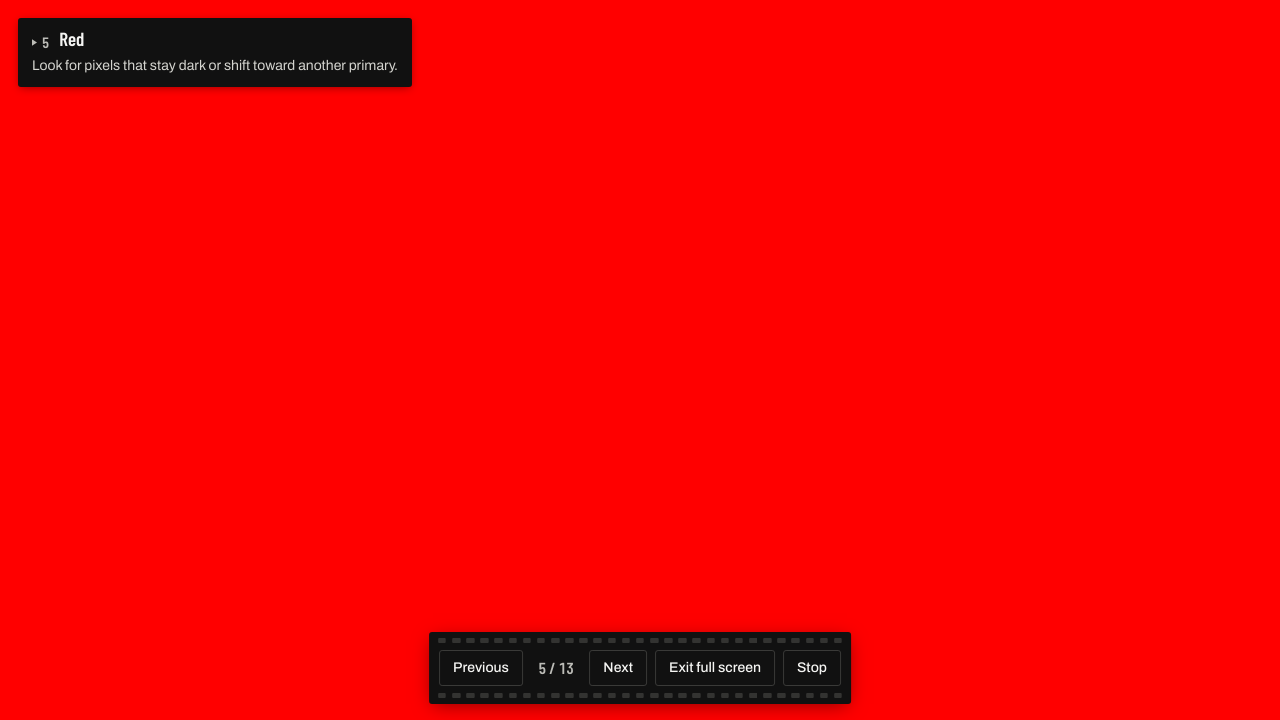
Test: flashing plate › can be skipped from the dock during the test
Earlier steps of the test are not shown.
Press ArrowRight
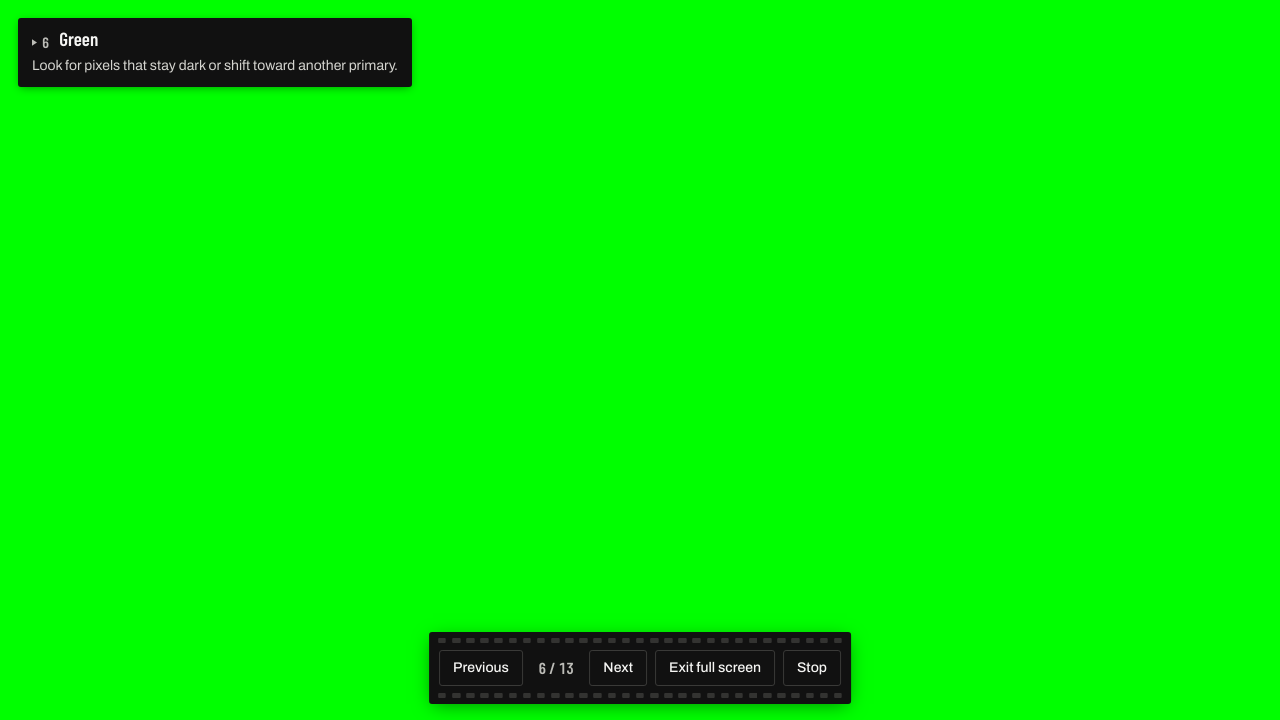
Press ArrowRight
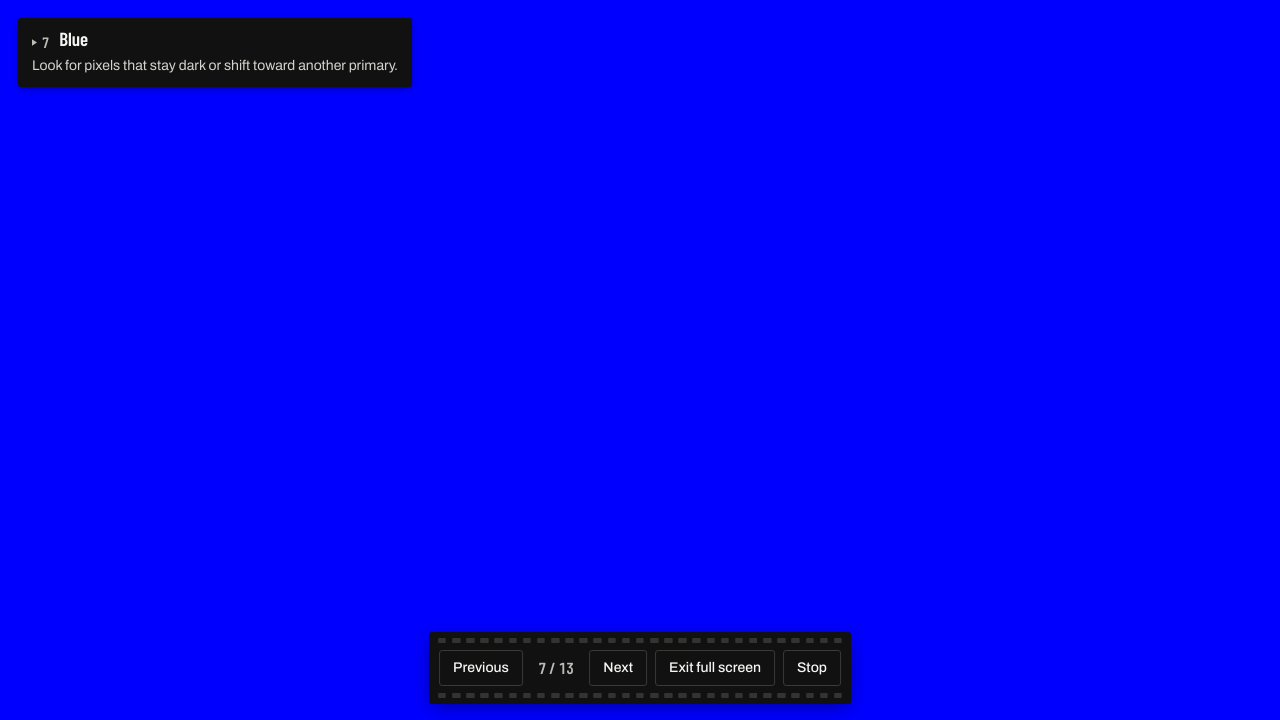
Press ArrowRight
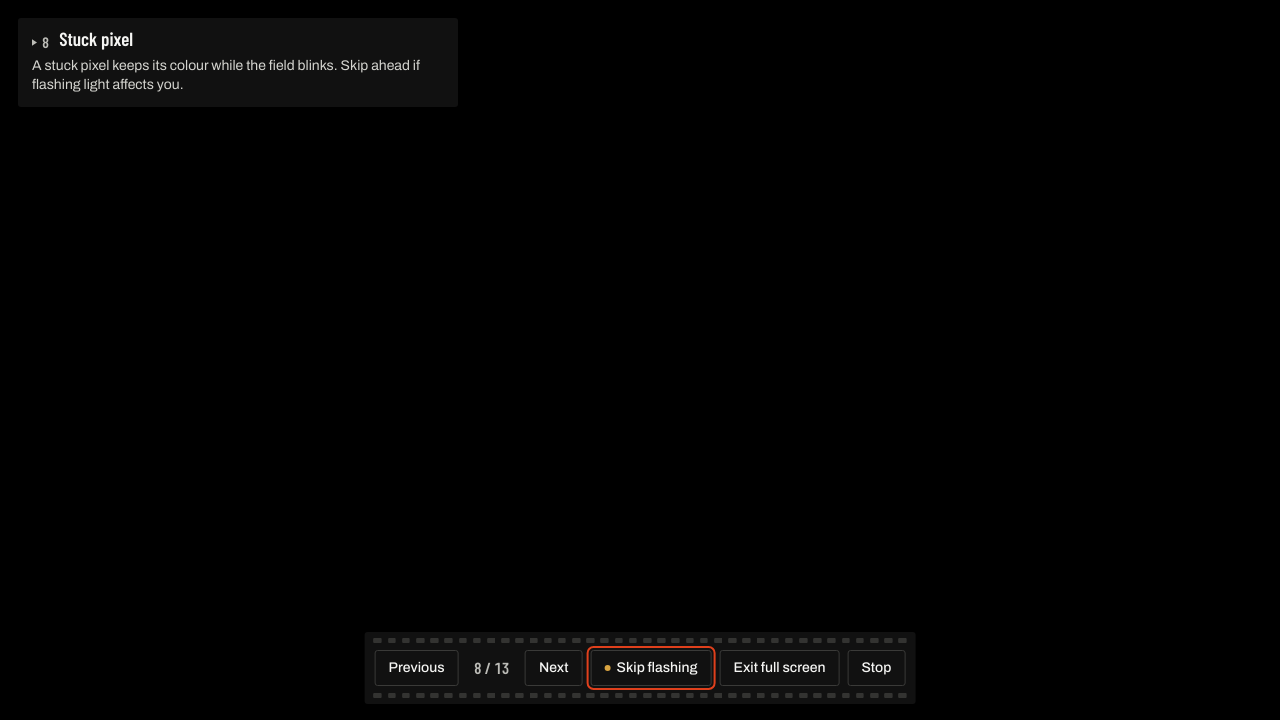
Click the button "Skip flashing" at [651, 668], box [590, 650, 712, 686]
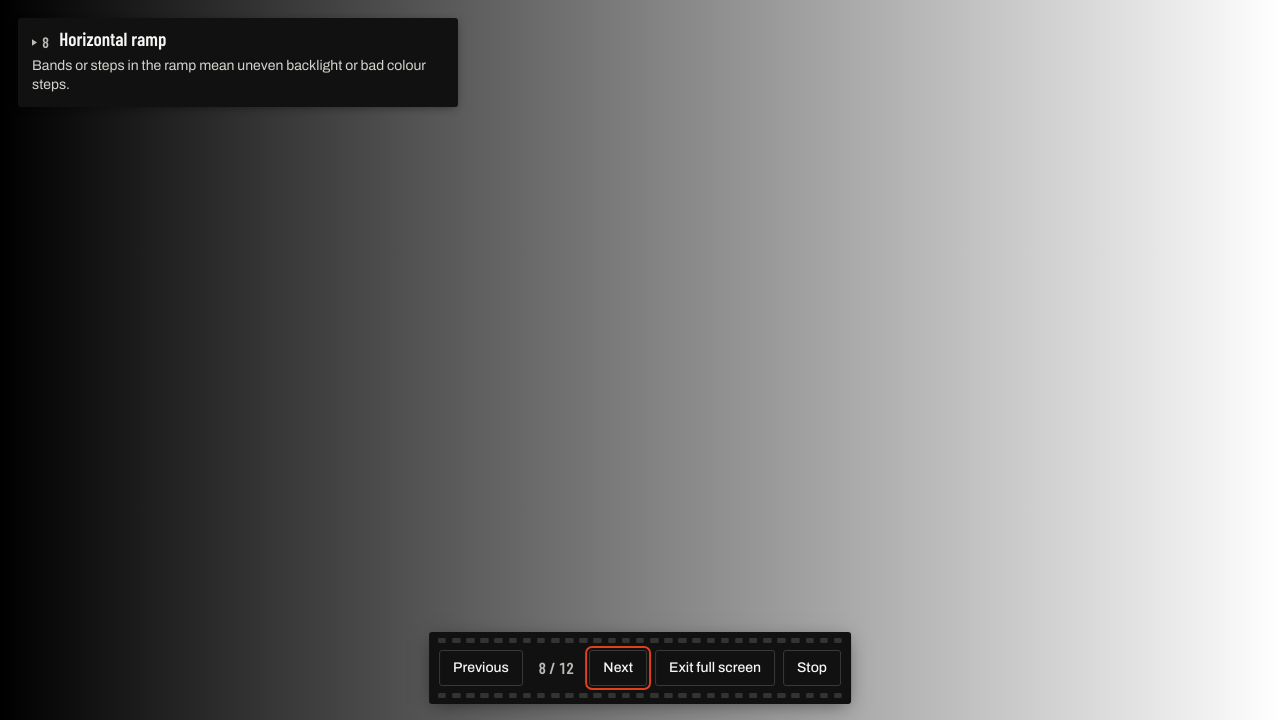
Expected: the button "Skip flashing" is gone
Click the button "Stop" at [812, 668], box [783, 650, 841, 686]
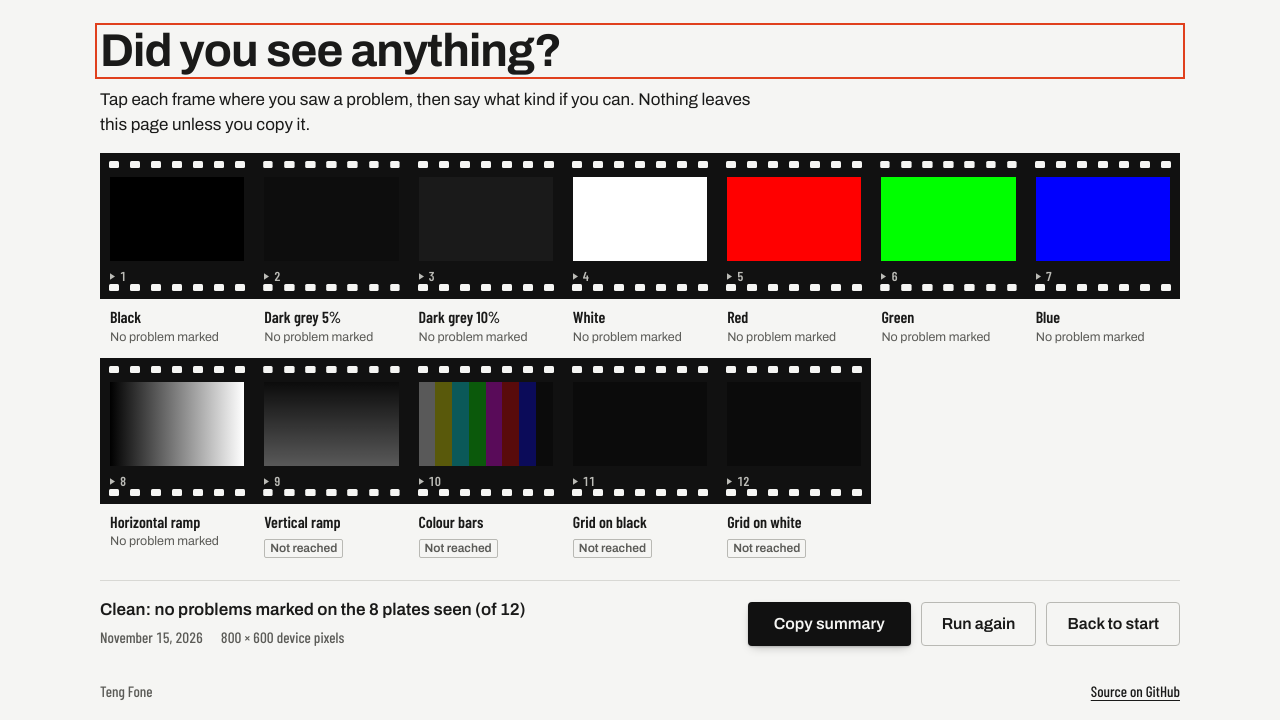
Click the button "Back to start" at [1113, 624], box [1046, 602, 1180, 646]
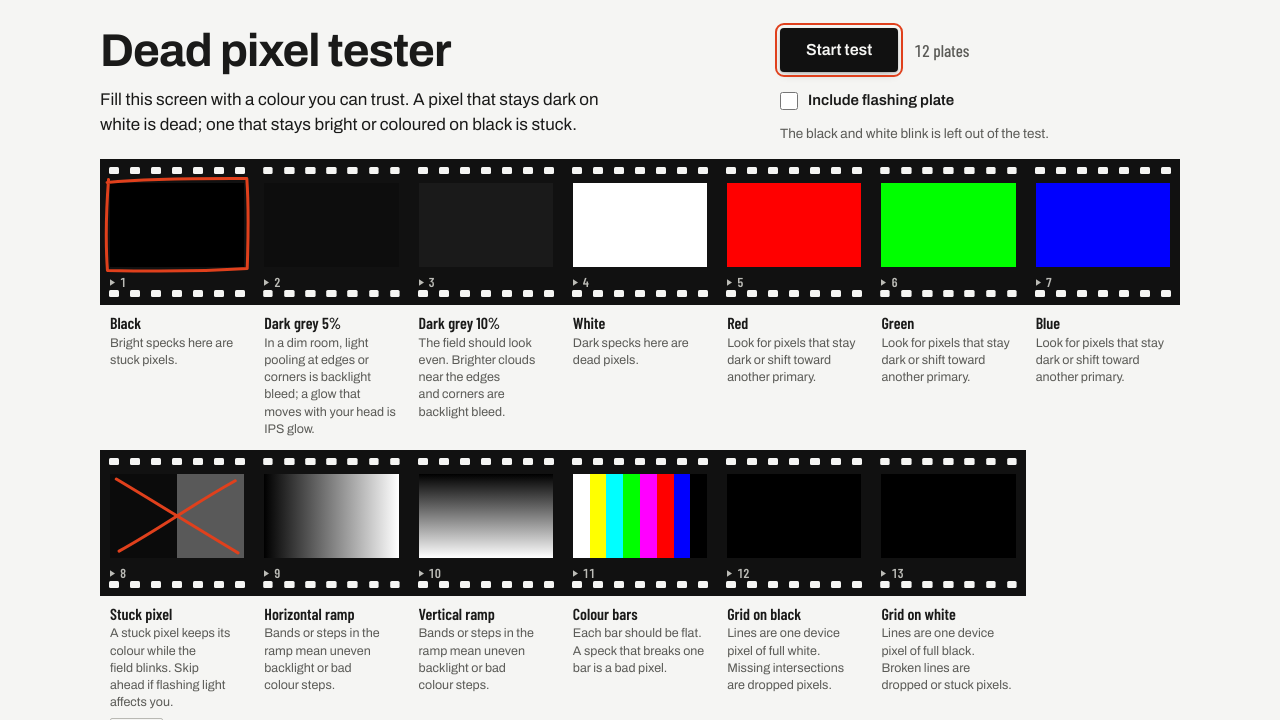
Expected: the checkbox labelled "Include flashing plate" is not checked, [780, 92, 798, 110]
